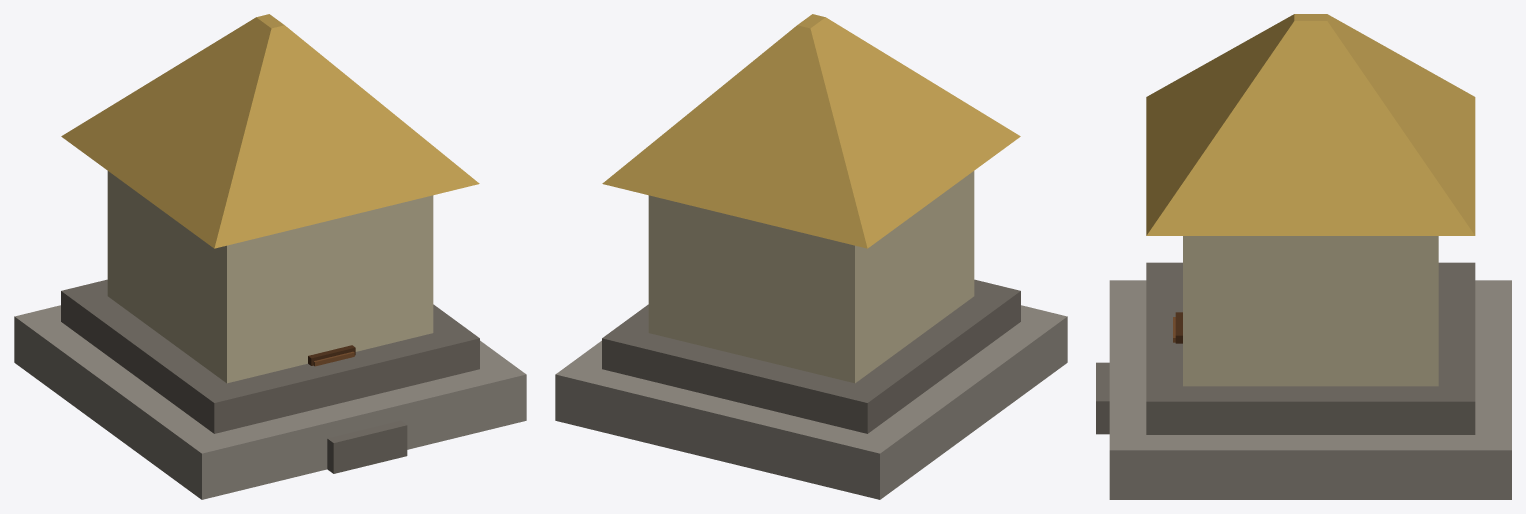
Rendered from frog_house_b_broken.glb.
The picture shows the model from 3 angles, left to right: view 1: azimuth 30°, elevation 25°; view 2: azimuth 150°, elevation 25°; view 3: azimuth 270°, elevation 25°; orthographic projection. The views are drawn at different scales.
Parts seen in each view (by area): view 1: frog_house_b_piece3, frog_house_b_piece2, frog_house_b_piece9, frog_house_b_piece4, frog_house_b_piece5, frog_house_b_piece1, frog_house_b_piece7, frog_house_b_piece11, frog_house_b_piece10; view 2: frog_house_b_piece4, frog_house_b_piece3, frog_house_b_piece11, frog_house_b_piece8, frog_house_b_piece5, frog_house_b_piece2, frog_house_b_piece10, frog_house_b_piece0; view 3: frog_house_b_piece1, frog_house_b_piece7, frog_house_b_piece11, frog_house_b_piece4, frog_house_b_piece8, frog_house_b_piece0, frog_house_b_piece2, frog_house_b_piece9, frog_house_b_piece3, frog_house_b_piece5, frog_house_b_piece6.
Boxes of the visible parts, x1,y1,x2,y2 form: frog_house_b_piece3: [94, 54, 346, 499]; frog_house_b_piece2: [201, 46, 463, 443]; frog_house_b_piece9: [292, 201, 506, 470]; frog_house_b_piece4: [14, 122, 142, 417]; frog_house_b_piece5: [71, 67, 174, 422]; frog_house_b_piece1: [300, 63, 526, 426]; frog_house_b_piece7: [297, 35, 479, 187]; frog_house_b_piece11: [196, 14, 301, 92]; frog_house_b_piece10: [96, 325, 179, 437]; frog_house_b_piece4: [673, 147, 955, 499]; frog_house_b_piece3: [820, 96, 1067, 423]; frog_house_b_piece11: [602, 14, 867, 291]; frog_house_b_piece8: [555, 232, 717, 453]; frog_house_b_piece5: [753, 102, 973, 443]; frog_house_b_piece2: [841, 26, 998, 123]; frog_house_b_piece10: [914, 316, 983, 439]; frog_house_b_piece0: [573, 308, 648, 361]; frog_house_b_piece1: [1109, 52, 1438, 499]; frog_house_b_piece7: [1146, 35, 1460, 275]; frog_house_b_piece11: [1259, 14, 1475, 342]; frog_house_b_piece4: [1422, 86, 1511, 386]; frog_house_b_piece8: [1399, 343, 1511, 499]; frog_house_b_piece0: [1353, 277, 1475, 499]; frog_house_b_piece2: [1109, 20, 1282, 346]; frog_house_b_piece9: [1096, 312, 1182, 439]; frog_house_b_piece3: [1102, 40, 1388, 364]; frog_house_b_piece5: [1378, 47, 1456, 116]; frog_house_b_piece6: [1335, 344, 1383, 435].
Size of the model in its own units: 2.2 by 2.4 by 2.27.
